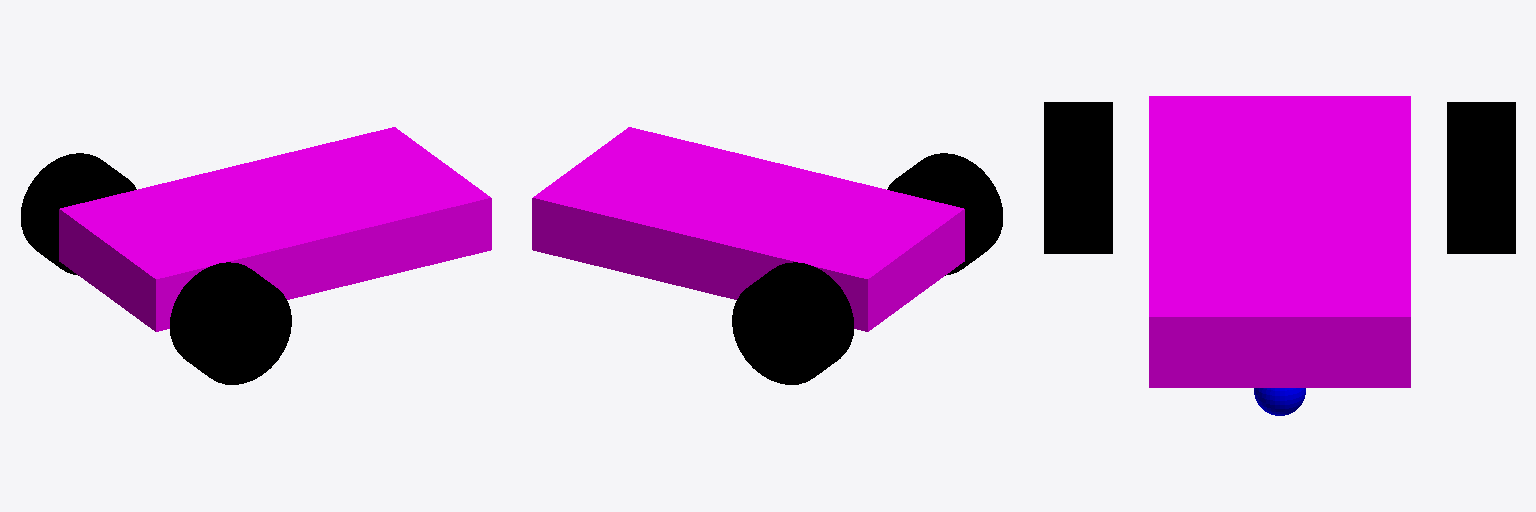
URDF robot description (follower):
<?xml version="1.0"?>
<robot name="follower">

    <!--Materials-->

    <material name="red">
        <color rgba="1 0 0 1"/>
    </material>

    <material name="blue">
        <color rgba="0 0 1 1"/>
    </material>

    <material name="black">
        <color rgba="0 0 0 1"/>
    </material> 

    <material name="magenta">
        <color rgba="1 0 1 1"/>
    </material>

    <!--Links-->
    <link name="base">
        <inertial>
            <mass value="1e-6"/>
            <inertia ixx="0.0" ixy="0.0" ixz="0.0" iyy="0.0" iyz="0.0" izz="0.0"/>
        </inertial>
    </link>

    <link name="chassis">
        <visual>
            <geometry>
                <box size="0.1 0.05 0.015"/>
                <!--<mesh filename="chassis.dae"/>-->
            </geometry>
            <material name="magenta"/>
            <origin rpy="0 0 3.14159" xyz="0 0 0"/>
        </visual>
        <collision>
            <geometry>
                <box size="0.1 0.05 0.025"/>
            </geometry>
        </collision>
        <inertial>
            <mass value="0.290"/>
            <inertia ixx="0.0" ixy="0.0" ixz="0.0" iyy="0.0" iyz="0.0" izz="6e-4"/>
        </inertial>
    </link>

    <link name="left_wheel">
        <visual>
            <geometry>
                <cylinder length="0.013" radius="0.0145"/>
            </geometry>
            <material name="black"/>
        </visual>
        <collision>
            <geometry>
                <cylinder length="0.013" radius="0.0145"/>
            </geometry>
        </collision>
        <contact>
          <lateral_friction value="0.6"/>
          <rolling_friction value="0.0"/>
          <stiffness value="300000"/>
          <damping value="1000"/>
        </contact>
        <inertial>
            <mass value="0.01"/>
            <inertia ixx="0.0" ixy="0.0" ixz="0.0" iyy="0.0" iyz="0.0" izz="1e-6"/>
        </inertial>
    </link>

    <link name="right_wheel">
        <visual>
            <geometry>
                <cylinder length="0.013" radius="0.0145"/>
            </geometry>
            <material name="black"/>
        </visual>
        <collision>
            <geometry>
                <cylinder length="0.013" radius="0.0145"/>
            </geometry>
        </collision>
        <contact>
          <lateral_friction value="0.6"/>
          <rolling_friction value="0.0"/>
          <stiffness value="300000"/>
          <damping value="1000"/>
        </contact>
        <inertial>
            <mass value="0.01"/>
            <inertia ixx="0.0" ixy="0.0" ixz="0.0" iyy="0.0" iyz="0.0" izz="1e-6"/>
        </inertial>
    </link>

    <link name="caster">
        <visual>
            <geometry>
                <sphere radius="0.005"/>
            </geometry>
            <material name="blue"/>
        </visual>
        <collision>
            <geometry>
                <sphere radius="0.005"/>
            </geometry>
        </collision>
        <contact>
          <lateral_friction value="0.0"/>
          <rolling_friction value="0.0"/>
          <stiffness value="300000"/>
          <damping value="1000"/>
        </contact>
        <inertial>
            <mass value="0.001"/>
            <inertia ixx="0.0" ixy="0.0" ixz="0.0" iyy="0.0" iyz="0.0" izz="0.0"/>
        </inertial>
    </link>


    <!--Joints-->

    <joint name="chassis_to_left_wheel" type="continuous">
        <parent link="chassis"/>
        <child link="left_wheel"/>
        <origin rpy="-1.5708 0 0" xyz="-0.0355 0.0385 -0.003"/>
        <axis xyz="0 0 1"/>
    </joint>

    <joint name="chassis_to_right_wheel" type="continuous">
        <parent link="chassis"/>
        <child link="right_wheel"/>
        <origin rpy="1.5708 0 0" xyz="-0.0355 -0.0385 -0.003"/>
        <axis xyz="0 0 -1"/>
    </joint>


    <joint name="base_to_chassis" type="fixed">
        <parent link="base"/>
        <child link="chassis"/>
        <origin rpy="0 0 0" xyz="0.0355 0 0.0175"/>
    </joint>

 
    <joint name="chassis_to_caster" type="fixed">
        <parent link="chassis"/>
        <child link="caster"/>
        <origin rpy="0 0 0" xyz="0.04 0 -0.0125"/>
    </joint>

</robot>

--- Facts derived from the render (not from the file) ---
3 views of the same robot in one strip: view 1: azimuth 30°, elevation 25°; view 2: azimuth 150°, elevation 25°; view 3: azimuth 270°, elevation 25° (orthographic).
Robot: follower — 5 links, 4 joints (2 continuous, 2 fixed); root link base; default pose: all joints at 0.
Visible links, largest first — view 1: chassis, right_wheel, left_wheel; view 2: chassis, left_wheel, right_wheel; view 3: chassis, left_wheel, right_wheel, caster.
Boxes of the visible links, box(x1,y1,x2,y2) form: chassis: box(59, 127, 491, 331); right_wheel: box(170, 262, 291, 384); left_wheel: box(21, 153, 136, 275); chassis: box(532, 127, 964, 331); left_wheel: box(732, 262, 853, 384); right_wheel: box(887, 153, 1002, 275); chassis: box(1149, 96, 1410, 387); left_wheel: box(1447, 102, 1515, 253); right_wheel: box(1044, 102, 1112, 253); caster: box(1254, 388, 1305, 415).
Bounding box of the posed robot: 0.1 × 0.09 × 0.029 m (x, y, z).
Geometry: primitives only (box / cylinder / sphere), no mesh files.